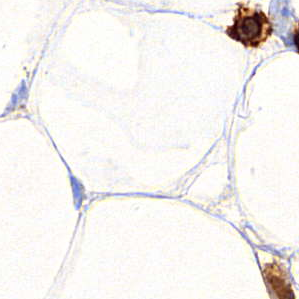Lymphocyte: (228, 6, 272, 47)
